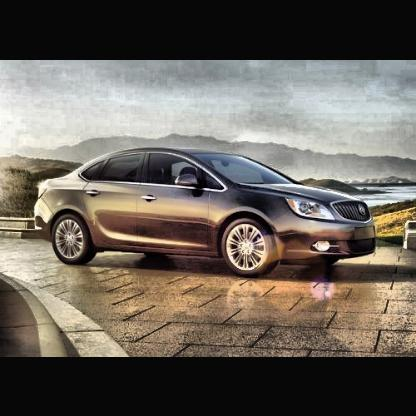Buick Verano Sedan 2012: (35, 147, 379, 280)
